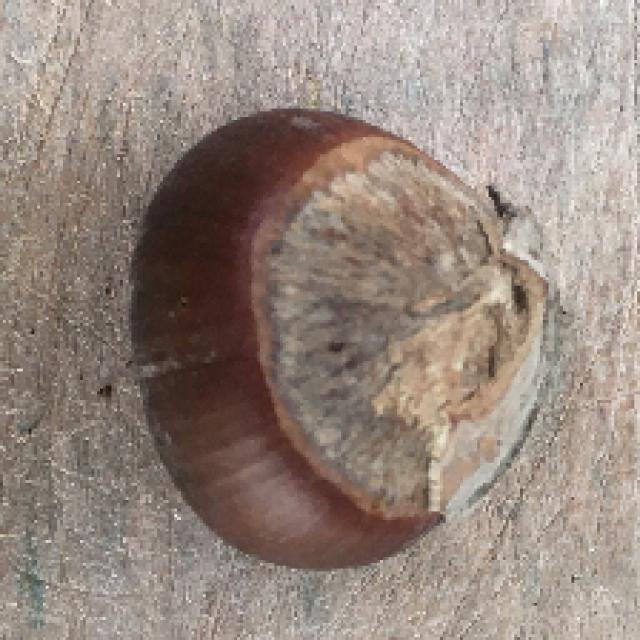damagedHazelnut: (113, 98, 568, 570)
